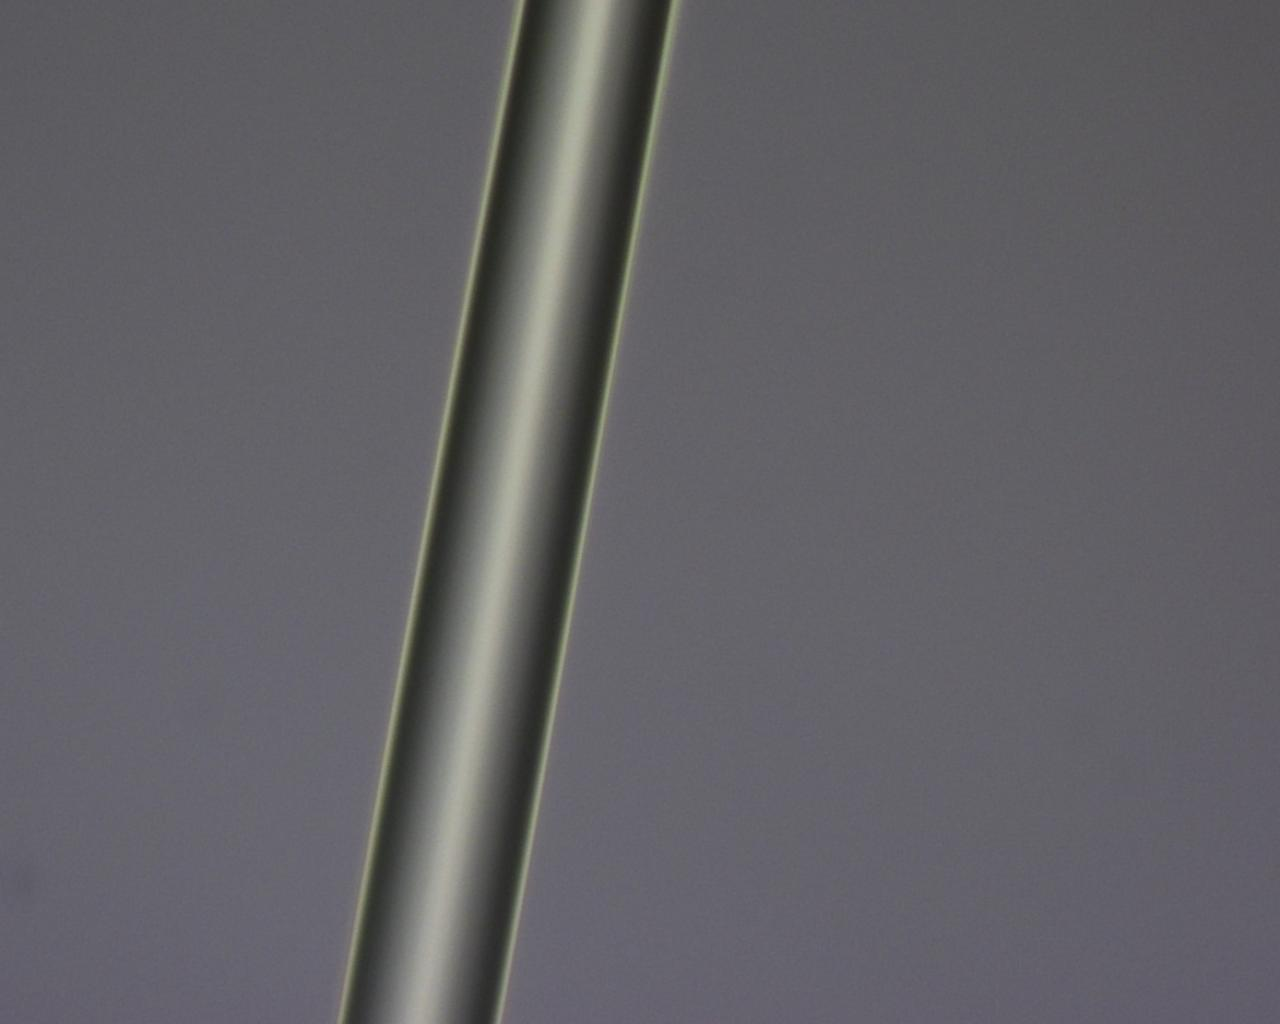fiber: (128, 576, 1152, 728)
